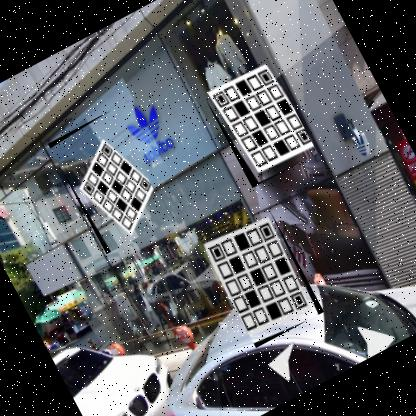qncode: (48, 110, 171, 255), (200, 208, 324, 350), (200, 55, 318, 189)
